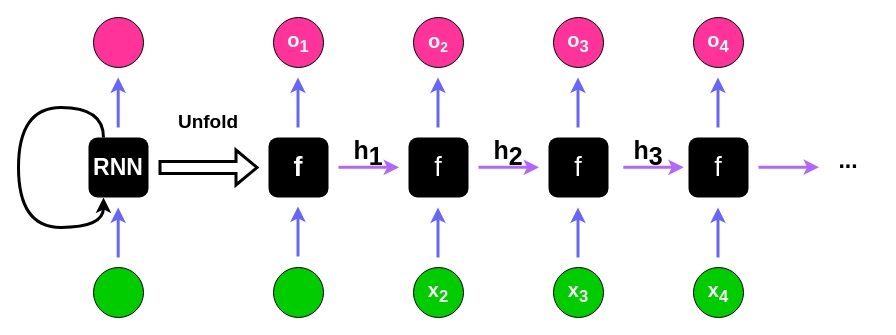
This 896x335 diagram has some shape labels left out. Here are the shapes that lost their labels. From the top down, the box of each, then its label:
(92, 16, 144, 68): output
(92, 266, 144, 318): seq
(272, 266, 324, 318): x 1
